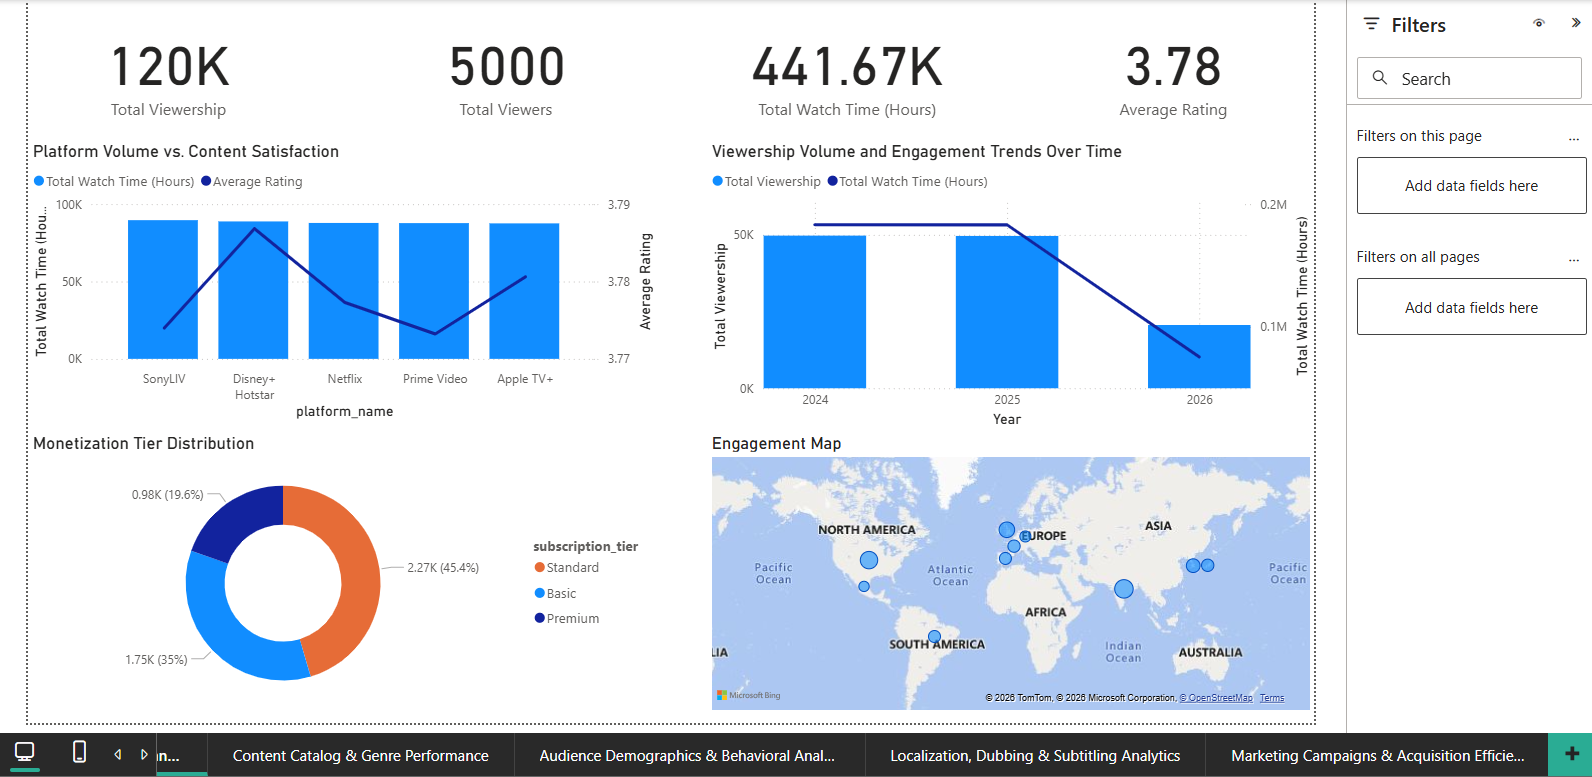

The page's visual inventory and layout, read from the dashboard file:
{"tool":"powerbi","page":{"name":"Executive Overview & Platform Performance","canvas":[1280,720],"ordinal":0},"visuals":[{"type":"card","fields":{"Values":["Dim_Content.Total Viewership"]},"box":[0,0,279.9,140],"z":0},{"type":"card","fields":{"Values":["Dim_Content.Total Watch Time (Hours)"]},"box":[675.1,0,279.9,140],"z":1000},{"type":"card","fields":{"Values":["Dim_Content.Average Rating"]},"box":[1000.3,0,279.9,140],"z":2000},{"type":"card","fields":{"Values":["Count(Dim_Viewer.viewer_id)"]},"box":[336.2,0,279.9,140],"z":3000},{"type":"lineClusteredColumnComboChart","title":"Platform Volume vs. Content Satisfaction","fields":{"Category":["Dim_Platform.platform_name"],"Y":["Dim_Content.Total Watch Time (Hours)"],"Y2":["Dim_Content.Average Rating"]},"box":[0,140,627.1,281.3],"z":4000},{"type":"lineClusteredColumnComboChart","title":"Viewership Volume and Engagement Trends Over Time","fields":{"Category":["Fact_Viewership_And_Ratings.watch_date.Variation.Date Hierarchy.Year","Fact_Viewership_And_Ratings.watch_date.Variation.Date Hierarchy.Quarter","Fact_Viewership_And_Ratings.watch_date.Variation.Date Hierarchy.Month","Fact_Viewership_And_Ratings.watch_date.Variation.Date Hierarchy.Day"],"Y":["Dim_Content.Total Viewership"],"Y2":["Dim_Content.Total Watch Time (Hours)"]},"box":[675.1,140,605.1,289.5],"z":5000},{"type":"donutChart","title":"Monetization Tier Distribution","fields":{"Category":["Dim_Viewer.subscription_tier"],"Y":["Count(Dim_Viewer.viewer_id)"]},"box":[0,431,627,281],"z":6000},{"type":"map","title":"Engagement Map","fields":{"Category":["Dim_Geography.country_name"],"Size":["Dim_Content.Total Watch Time (Hours)"]},"box":[675,431,605,281],"z":7000}]}

Visuals, with their boxes on the page's 1280x720 design canvas (x1, y1, x2, y2). These are canvas units, not pixel positions in the 1592x777 screenshot, which may show the page scaled, cropped or inside an application window:
card - Dim_Content.Total Viewership: <region>0, 0, 280, 140</region>
card - Dim_Content.Total Watch Time (Hours): <region>675, 0, 955, 140</region>
card - Dim_Content.Average Rating: <region>1000, 0, 1280, 140</region>
card - Count(Dim_Viewer.viewer_id): <region>336, 0, 616, 140</region>
"Platform Volume vs. Content Satisfaction" lineClusteredColumnComboChart: <region>0, 140, 627, 421</region>
"Viewership Volume and Engagement Trends Over Time" lineClusteredColumnComboChart: <region>675, 140, 1280, 430</region>
"Monetization Tier Distribution" donutChart: <region>0, 431, 627, 712</region>
"Engagement Map" map: <region>675, 431, 1280, 712</region>
